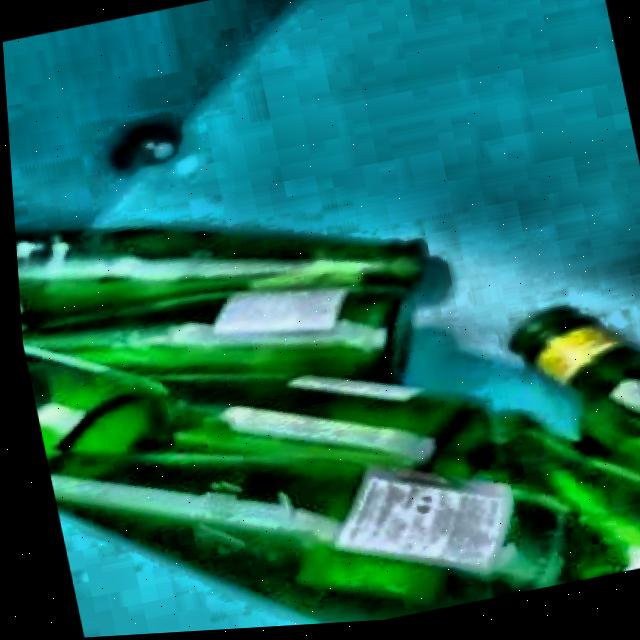glass: (12, 229, 640, 626)
